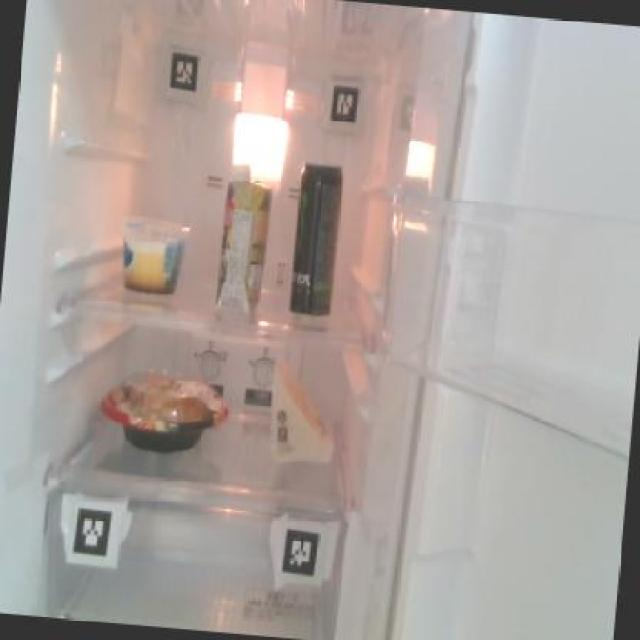bento: (96, 370, 230, 459)
energy_drink: (286, 160, 343, 318)
pudding: (116, 213, 190, 298)
sandwich: (264, 355, 345, 468)
smoothie: (212, 161, 277, 316)
